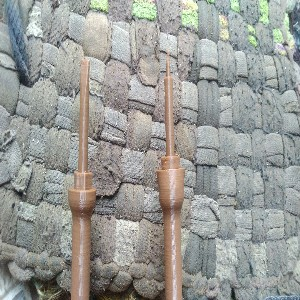obeng: (67, 58, 96, 300)
solder: (156, 58, 185, 300)
